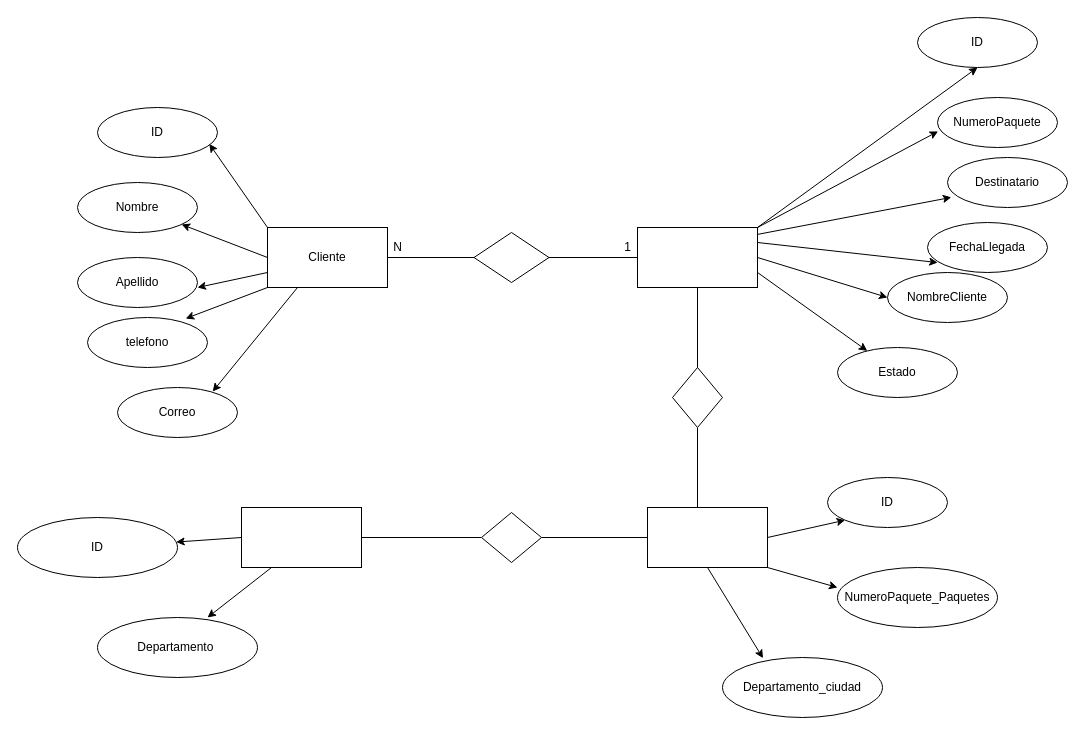
The diagram is 1085 pixels wide and 735 high, and some of its shapes have lost their labels. Here are the shapes that lost their labels. From the top down, the box of each, then its label:
(473, 232, 549, 282): Deja
(636, 226, 758, 288): Paquetes
(240, 506, 362, 568): Ciudad
(646, 506, 768, 568): Envios
